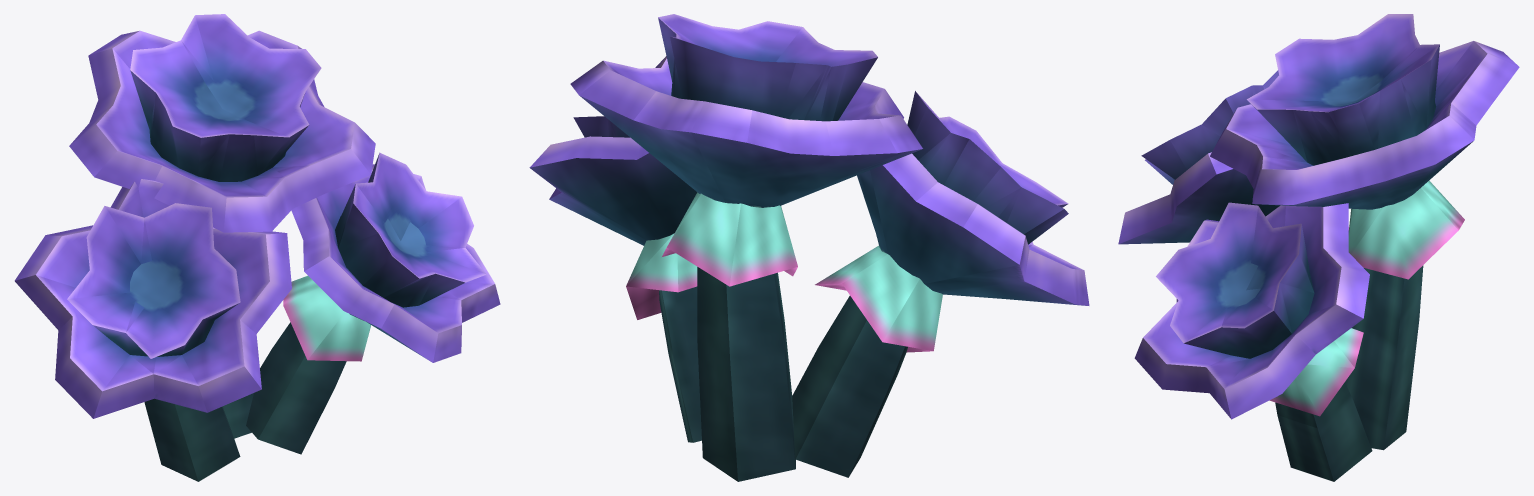
Rendered from item_mushroomflower_bundle.fbx.
3 renders of one model, left to right at view 1: azimuth 30°, elevation 25°; view 2: azimuth 150°, elevation 25°; view 3: azimuth 270°, elevation 25°, orthographic. The views are drawn at different scales.
Visible parts, largest first — view 1: item_mushroomflower_bundle; view 2: item_mushroomflower_bundle; view 3: item_mushroomflower_bundle.
Part boxes in pixels (bbox=[...]): item_mushroomflower_bundle: bbox=[14, 14, 500, 481]; item_mushroomflower_bundle: bbox=[529, 14, 1089, 481]; item_mushroomflower_bundle: bbox=[1118, 14, 1519, 481].
Bounding box in the file's own units: 0.18 × 0.1556 × 0.1385.
